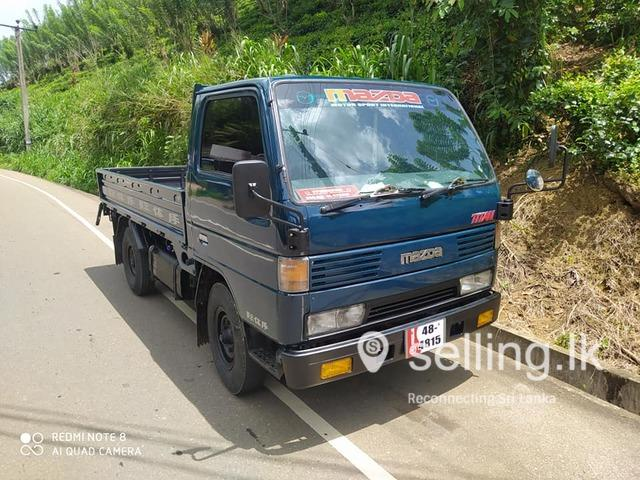truck: (95, 73, 565, 398)
